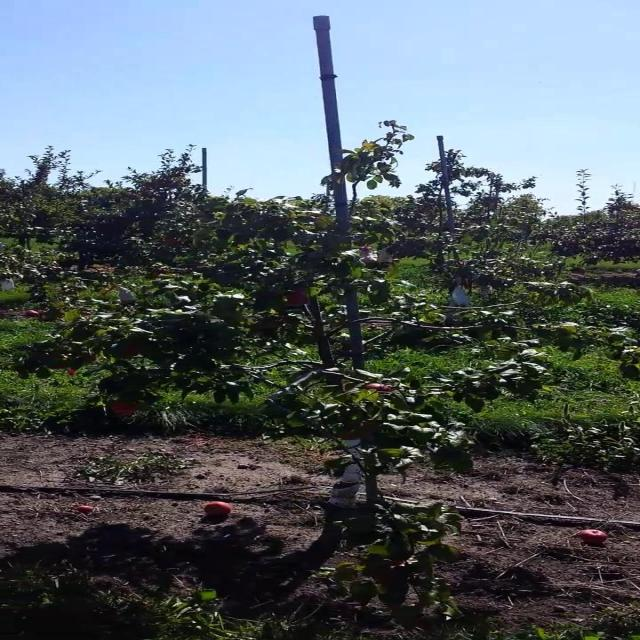apple: (113, 404, 135, 415), (291, 292, 308, 304), (56, 356, 71, 369), (84, 352, 100, 363), (127, 348, 142, 356), (340, 432, 354, 440), (369, 384, 382, 390), (362, 424, 373, 430), (56, 364, 69, 369), (70, 368, 78, 375)
